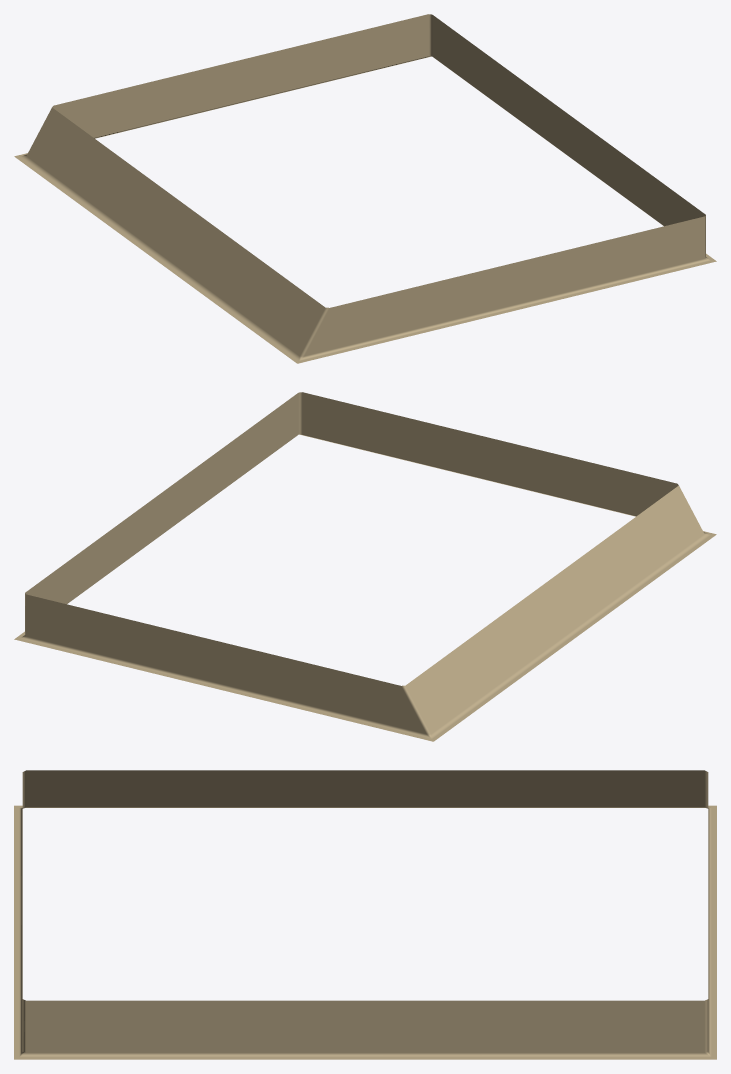
Rendered from kornelius wall edge top.fbx.
3 views of the same model, one above another, from view 1: azimuth 30°, elevation 25°; view 2: azimuth 150°, elevation 25°; view 3: azimuth 270°, elevation 25° (orthographic). The views are drawn at different scales.
Parts seen in each view (by area): view 1: wall edge.004; view 2: wall edge.004; view 3: wall edge.004.
Boxes of the visible parts, x1,y1,x2,y2 form: wall edge.004: (14,14,716,363); wall edge.004: (14,392,716,741); wall edge.004: (14,770,716,1059).
Size of the model in its own units: 171 by 17.36 by 200.
